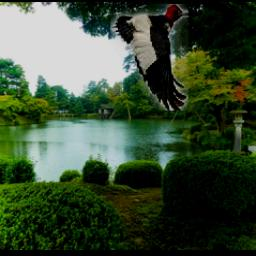Woodpecker: (111, 4, 190, 111)
